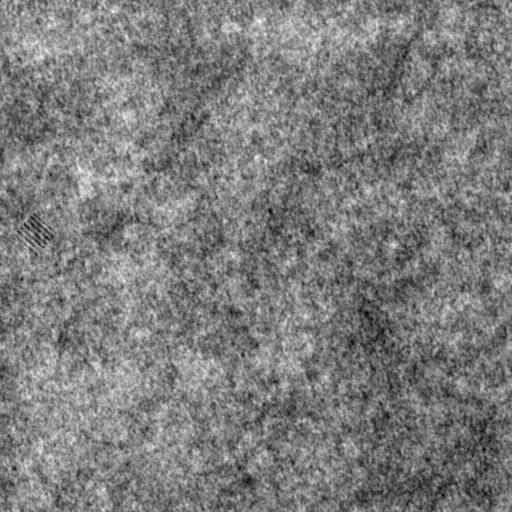DefectTypeB: (16, 212, 55, 254)
